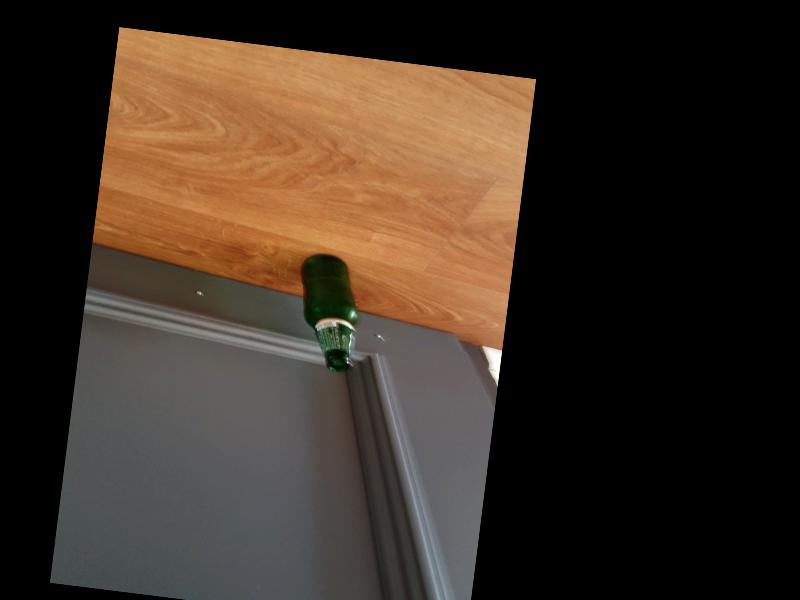Beer: (291, 252, 363, 371)
